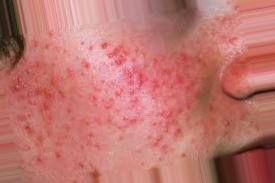Acne: (79, 84, 138, 128), (23, 113, 64, 170), (32, 69, 68, 123), (67, 46, 98, 80), (152, 75, 195, 96), (158, 110, 183, 140), (177, 52, 202, 77), (78, 162, 105, 183), (6, 71, 28, 94), (103, 45, 125, 65), (132, 70, 151, 87), (155, 48, 165, 76), (94, 38, 110, 52)
